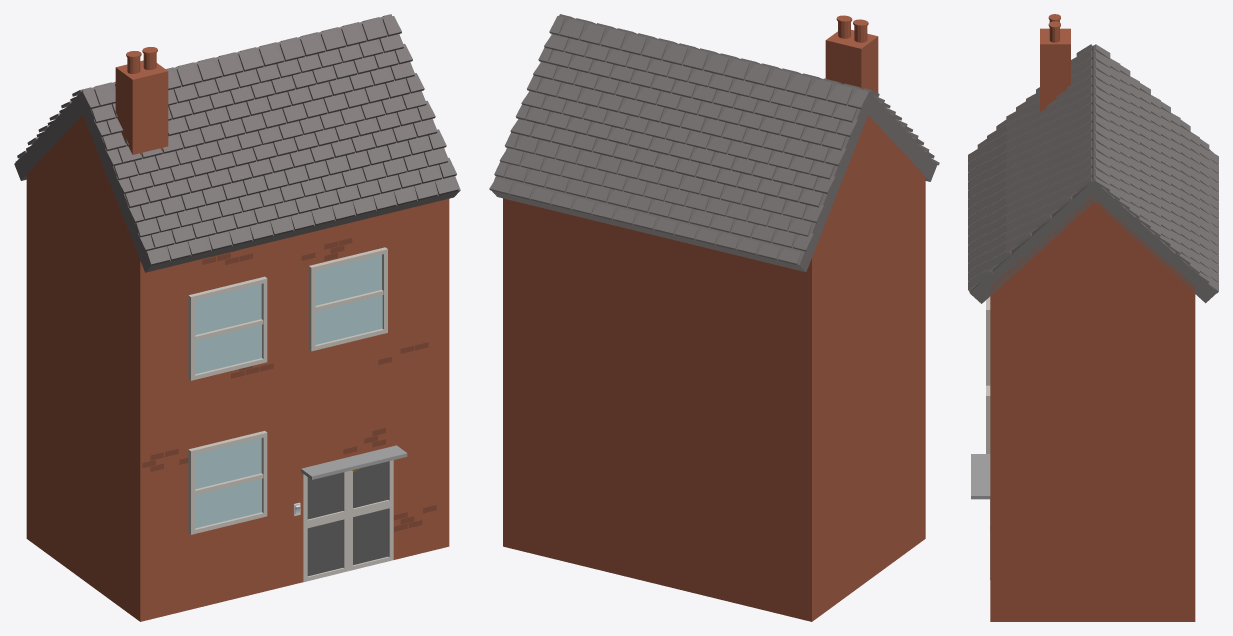
Rendered from huis_niet_inloop.fbx.
The picture shows the model from 3 angles, left to right: view 1: azimuth 30°, elevation 25°; view 2: azimuth 150°, elevation 25°; view 3: azimuth 270°, elevation 25°; orthographic projection. The views are drawn at different scales.
Parts seen in each view (by area): view 1: pCube172, pCube4, polySurface230, pCube171, polySurface231, polySurface386, polySurface280, polySurface431, polySurface429, polySurface384, polySurface278, polySurface387 (+6 smaller); view 2: pCube172, pCube4, pCube171, group3_group2_polySurface17, polySurface417; view 3: pCube172, pCube4, pCube171, pCube240, group3_group2_polySurface16, polySurface417, group3_group2_polySurface17, polySurface282.
Part boxes in pixels (<box>): pCube172: <box>26,114,449,621</box>; pCube4: <box>14,14,460,272</box>; polySurface230: <box>307,461,388,576</box>; pCube171: <box>115,60,168,155</box>; polySurface231: <box>303,460,393,582</box>; polySurface386: <box>195,438,261,489</box>; polySurface280: <box>195,284,261,334</box>; polySurface431: <box>315,254,381,305</box>; polySurface429: <box>315,295,382,344</box>; polySurface384: <box>195,478,261,528</box>; polySurface278: <box>195,324,261,374</box>; polySurface387: <box>188,431,267,534</box>; pCube172: <box>503,115,925,621</box>; pCube4: <box>492,15,937,272</box>; pCube171: <box>825,29,878,96</box>; group3_group2_polySurface17: <box>793,89,869,251</box>; polySurface417: <box>494,16,564,177</box>; pCube172: <box>990,196,1195,621</box>; pCube4: <box>969,45,1216,303</box>; pCube171: <box>1040,28,1070,111</box>; pCube240: <box>971,454,990,499</box>; group3_group2_polySurface16: <box>977,176,1092,283</box>; polySurface417: <box>1095,178,1209,283</box>; group3_group2_polySurface17: <box>1095,44,1209,150</box>; polySurface282: <box>986,296,990,385</box>.
Bounding box in the file's own units: 4.49 × 7.36 × 3.47.
